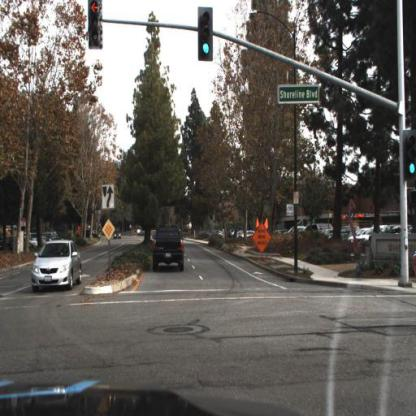car: (29, 239, 85, 294), (153, 223, 189, 274), (115, 231, 123, 241)
trafficLight-Green: (200, 9, 214, 61)
trafficLight-RedLeft: (91, 2, 104, 49)
